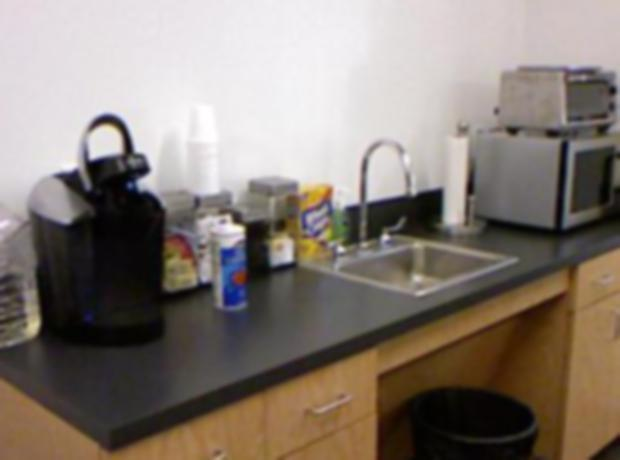Bote de Basura: (410, 383, 539, 460)
Lavaplatos: (298, 133, 531, 310)
